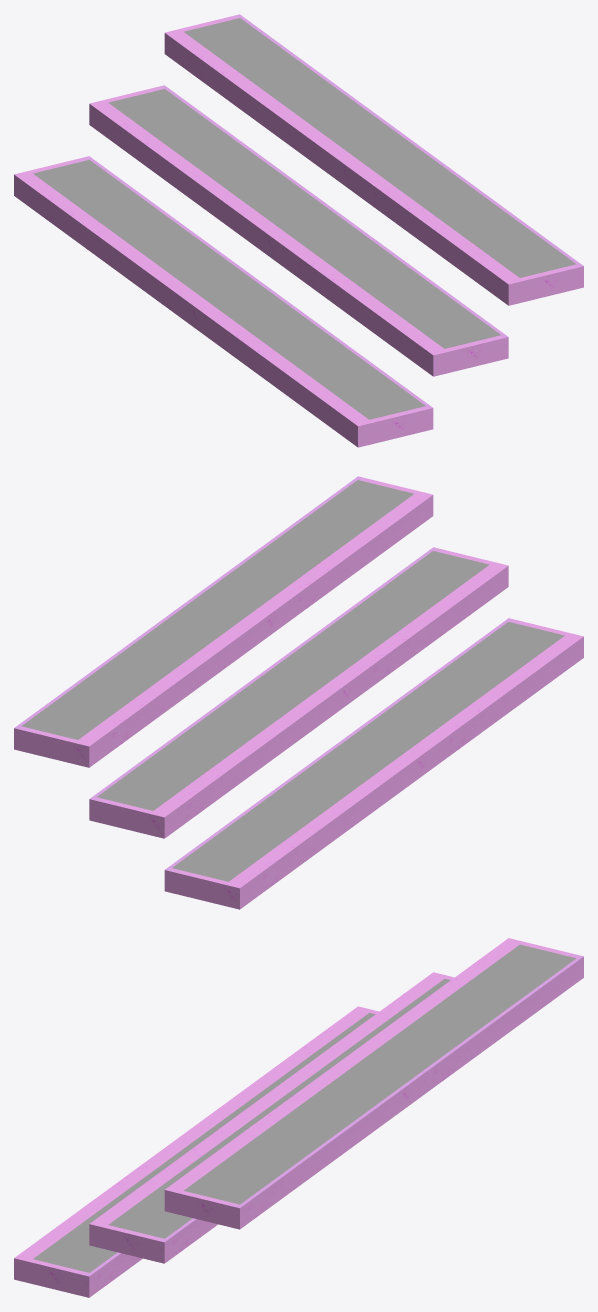
File: 250W3StepStairs_01_SM_Low.fbx
The picture shows the model from 3 angles, top to bottom: view 1: azimuth 30°, elevation 25°; view 2: azimuth 150°, elevation 25°; view 3: azimuth 330°, elevation 25°; orthographic projection.
Visible parts, largest first — view 1: Grate_Geo (×3), StepGratingBase_Geo (×3); view 2: Grate_Geo (×3), StepGratingBase_Geo (×3); view 3: StepGratingBase_Geo (×3), Grate_Geo (×3).
Part boxes in pixels (left/top/right/bottom): Grate_Geo (×3): left=33, top=18, right=576, bottom=419; StepGratingBase_Geo (×3): left=14, top=14, right=583, bottom=447; Grate_Geo (×3): left=21, top=480, right=564, bottom=881; StepGratingBase_Geo (×3): left=14, top=476, right=583, bottom=909; StepGratingBase_Geo (×3): left=14, top=938, right=583, bottom=1297; Grate_Geo (×3): left=33, top=944, right=575, bottom=1272.
Size of the model in its own units: 90 by 48.12 by 238.
Materials: 2 (1 with a texture image).
